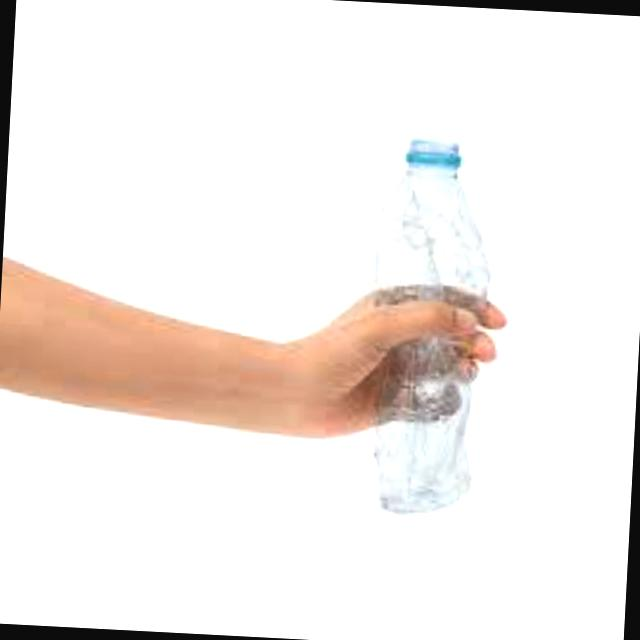Plastic: (318, 121, 568, 538)
